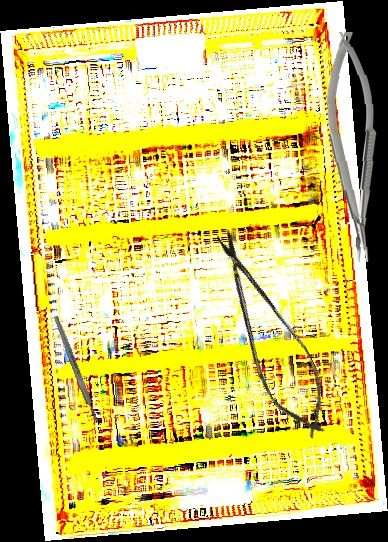Micro Scissor: (195, 221, 344, 448)
Needle Holder: (323, 31, 381, 263)
Scalpel Handle: (52, 314, 101, 425)
